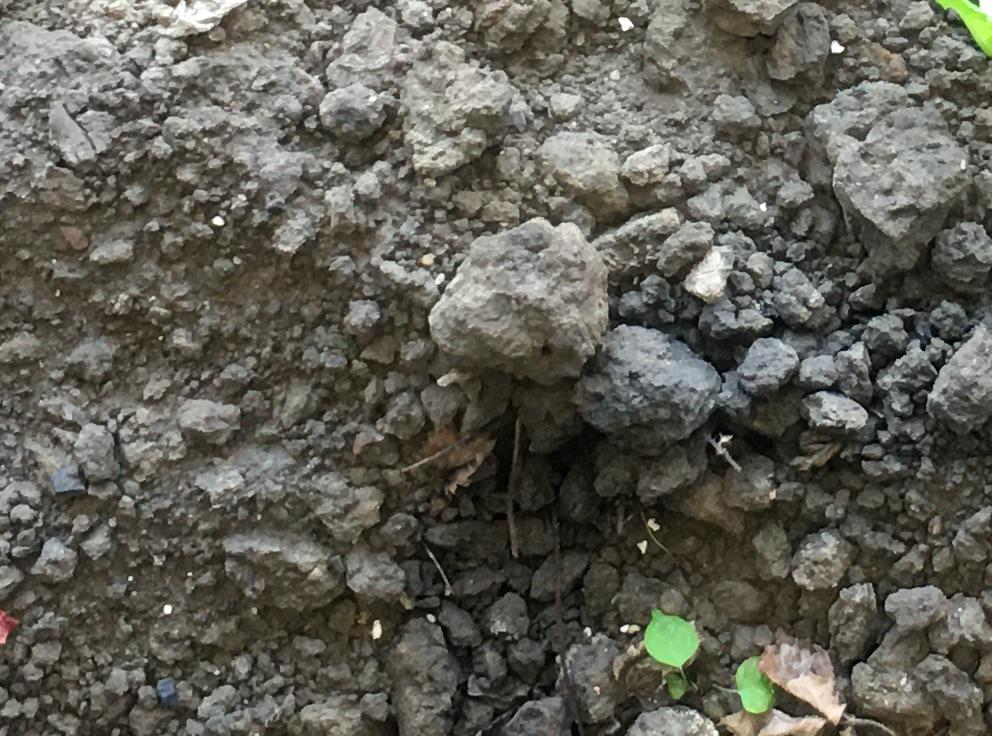block: (421, 219, 603, 385), (811, 105, 970, 266), (398, 48, 521, 193), (579, 324, 717, 452)
